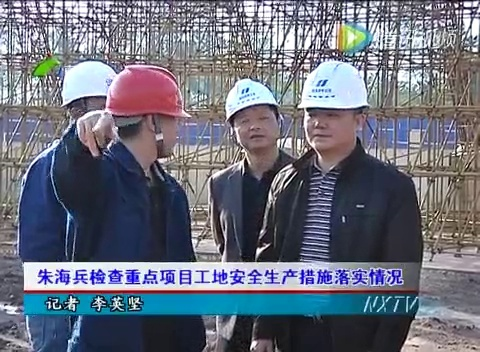red: (105, 62, 184, 162)
white: (298, 59, 366, 154), (224, 76, 281, 155), (60, 59, 118, 130)
